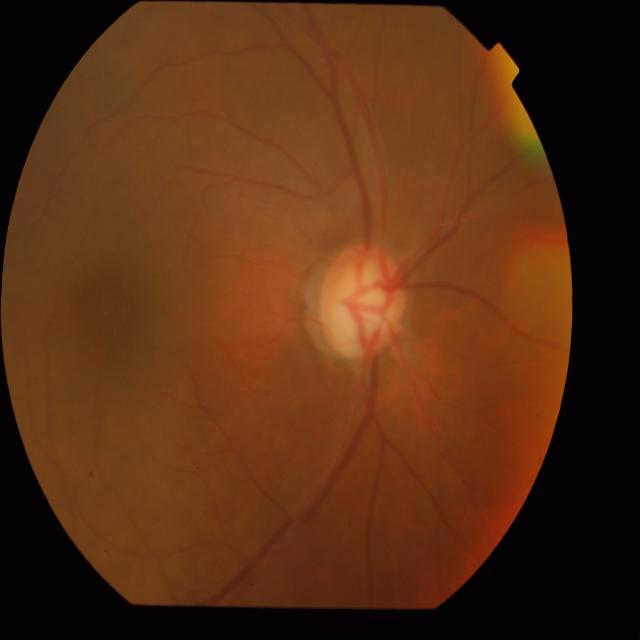OC: (332, 264, 390, 344)
OD: (318, 242, 409, 360)
